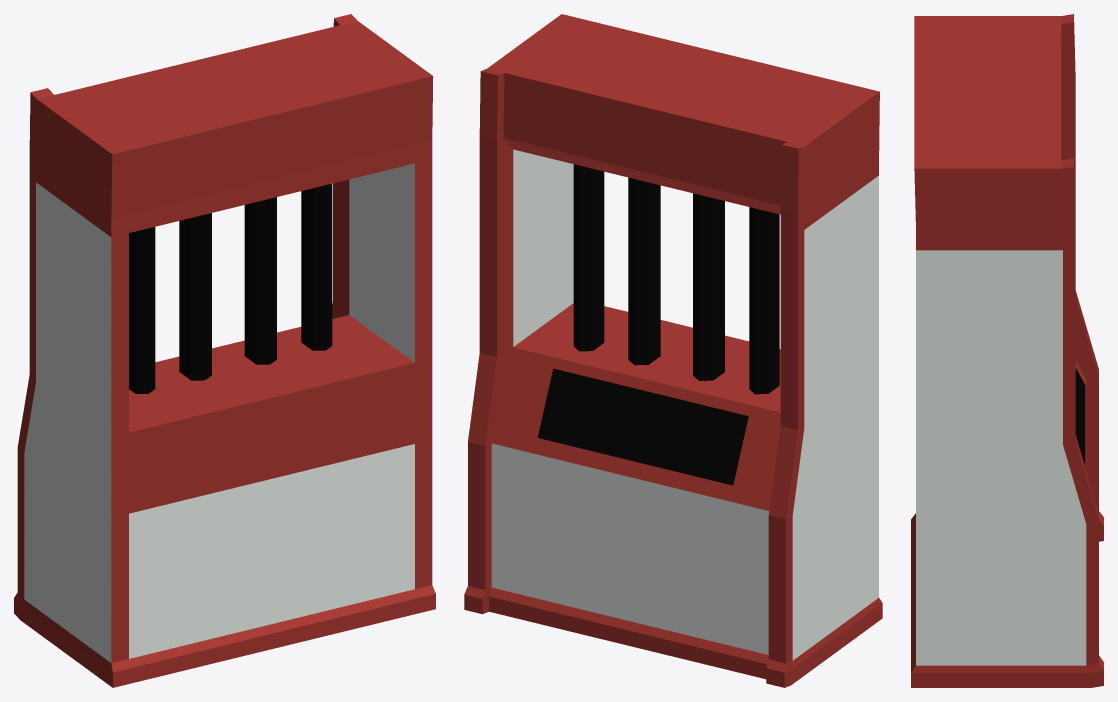
The model's file is gas.fbx.
3 renders of one model, left to right at view 1: azimuth 30°, elevation 25°; view 2: azimuth 150°, elevation 25°; view 3: azimuth 270°, elevation 25°, orthographic. The views are drawn at different scales.
Parts seen in each view (by area): view 1: Cube.001; view 2: Cube.001; view 3: Cube.001.
Part boxes in pixels (x1,y1,x2,y2): Cube.001: (14, 14, 435, 687); Cube.001: (464, 14, 882, 687); Cube.001: (911, 14, 1103, 687).
Bounding box in the file's own units: 404 × 638 × 214.
1 material, 1 textured.
